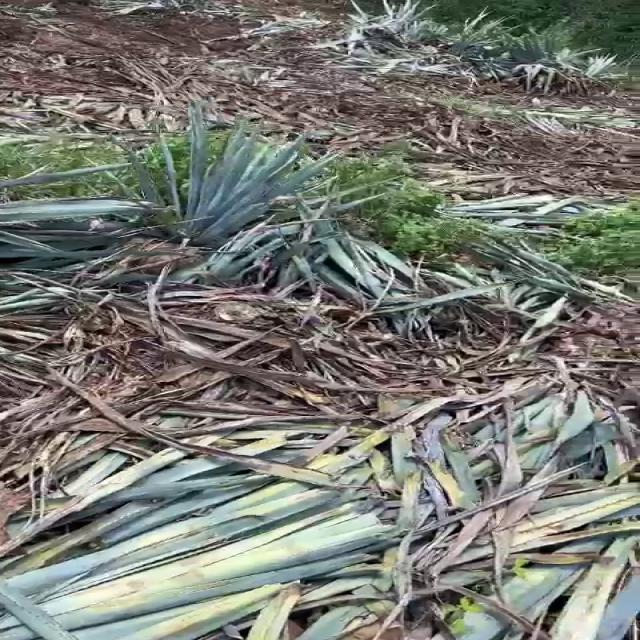agave: (98, 115, 338, 256)
